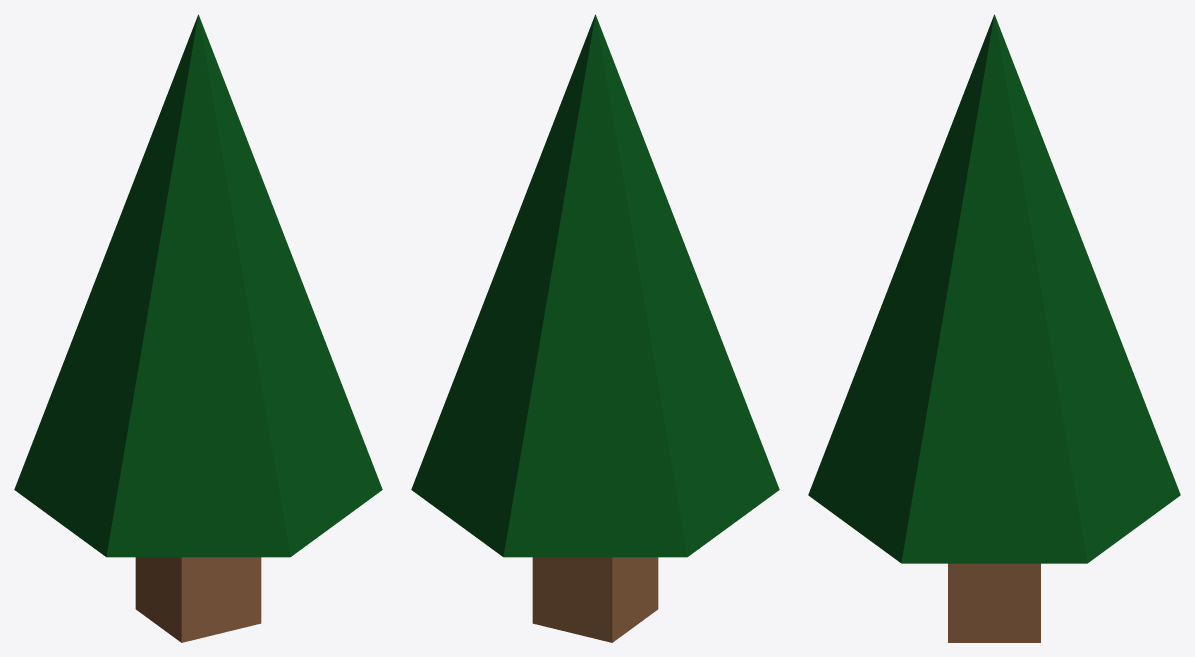
The model's file is Tree 2601_nlt.glb.
The picture shows the model from 3 angles, left to right: view 1: azimuth 30°, elevation 25°; view 2: azimuth 150°, elevation 25°; view 3: azimuth 270°, elevation 25°; orthographic projection.
Parts seen in each view (by area): view 1: nlt; view 2: nlt; view 3: nlt.
Boxes of the visible parts, x1,y1,x2,y2 form: nlt: (14, 14, 382, 642); nlt: (411, 14, 779, 642); nlt: (808, 14, 1180, 642).
Bounding box in the file's own units: 0.6985 × 1.45 × 0.8065.
